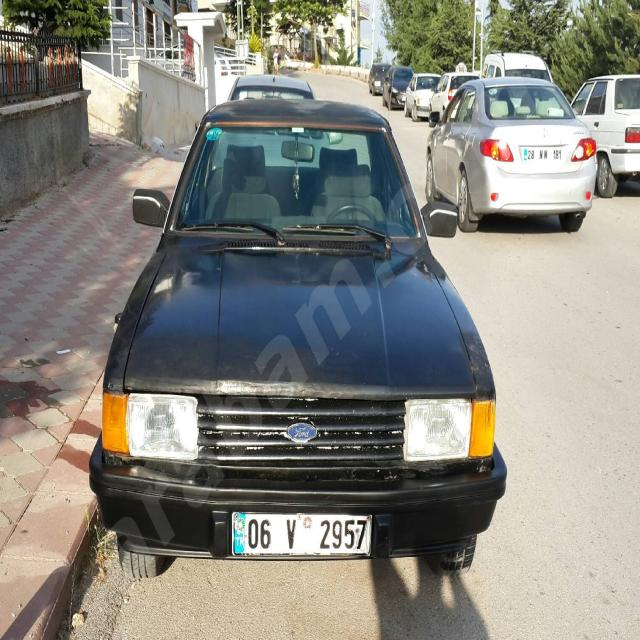license_plate: (233, 514, 372, 555)
